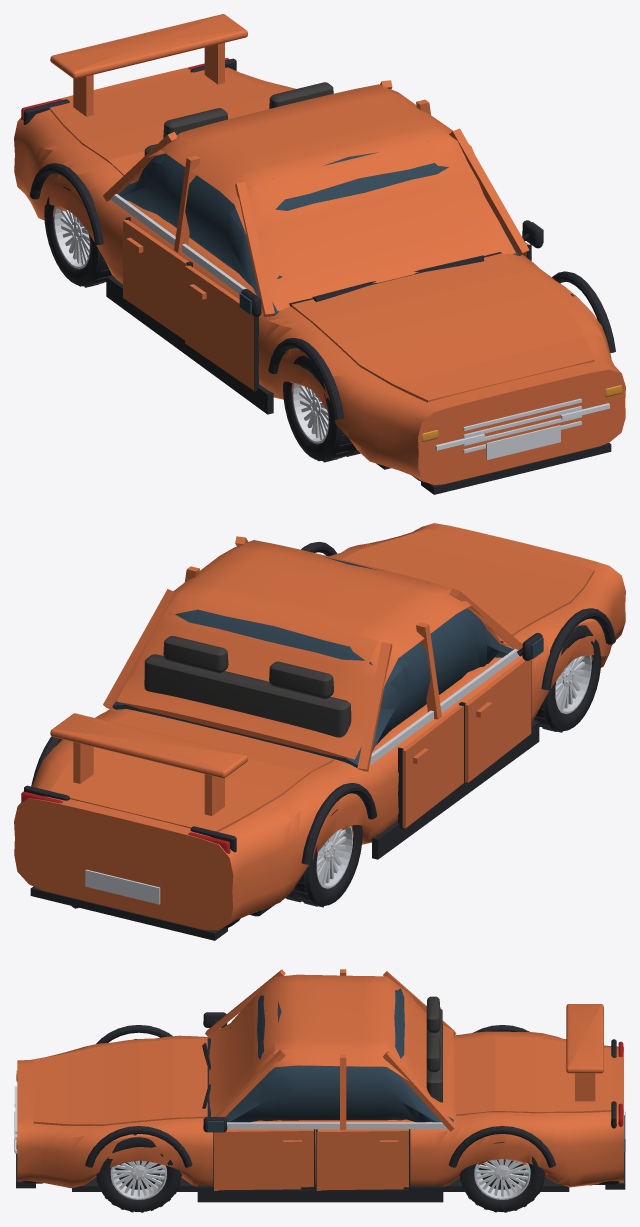
The model's file is SportsSaloonHD.fbx.
3 views of the same model, one above another, from view 1: azimuth 30°, elevation 25°; view 2: azimuth 150°, elevation 25°; view 3: azimuth 270°, elevation 25° (orthographic). The views are drawn at different scales.
Visible parts, largest first — view 1: body_sports-saloon_0, body_bonnet.001, trim_sports-saloon_1, body_boot.001, glass_sports-saloon_2, body_door-front-left.001, body_door-rear-left.001, rim_sports-saloon_6, trim_wheel-front-left_trim, interior_sports-saloon_3, trim_wheel-rear-left_trim, rim_wheel-rear-left_alloy (+1 smaller); view 2: body_sports-saloon_0, body_boot.001, body_bonnet.001, interior_sports-saloon_3, glass_sports-saloon_2, trim_sports-saloon_1, body_door-front-left.001, body_door-rear-left.001, rim_sports-saloon_6, trim_wheel-front-left_trim, trim_wheel-rear-left_trim, rim_wheel-rear-left_alloy (+1 smaller); view 3: body_sports-saloon_0, body_bonnet.001, glass_sports-saloon_2, body_boot.001, trim_sports-saloon_1, body_door-front-right.001, body_door-rear-right.001, trim_wheel-front-right_trim, trim_wheel-rear-right_trim, rim_sports-saloon_6, rim_wheel-rear-right_alloy, rim_wheel-front-right_alloy (+1 smaller).
Part boxes in pixels (box(x1,y1,x2,y2)): body_sports-saloon_0: box(14, 14, 625, 485); body_bonnet.001: box(291, 253, 594, 402); trim_sports-saloon_1: box(23, 58, 615, 494); body_boot.001: box(49, 70, 279, 175); glass_sports-saloon_2: box(118, 141, 543, 315); body_door-front-left.001: box(185, 265, 254, 390); body_door-rear-left.001: box(123, 220, 188, 340); rim_sports-saloon_6: box(110, 194, 581, 459); trim_wheel-front-left_trim: box(283, 355, 360, 462); interior_sports-saloon_3: box(144, 82, 333, 155); trim_wheel-rear-left_trim: box(44, 187, 111, 287); rim_wheel-rear-left_alloy: box(54, 206, 90, 268); body_sports-saloon_0: box(14, 523, 625, 930); body_boot.001: box(50, 710, 333, 831); body_bonnet.001: box(342, 529, 594, 642); interior_sports-saloon_3: box(144, 635, 351, 737); glass_sports-saloon_2: box(112, 545, 543, 767); trim_sports-saloon_1: box(23, 541, 615, 940); body_door-front-left.001: box(465, 658, 531, 782); body_door-rear-left.001: box(402, 705, 463, 828); rim_sports-saloon_6: box(85, 649, 519, 904); trim_wheel-front-left_trim: box(533, 625, 601, 732); trim_wheel-rear-left_trim: box(285, 809, 362, 907); rim_wheel-rear-left_alloy: box(316, 826, 352, 888); body_sports-saloon_0: box(17, 969, 623, 1188); body_bonnet.001: box(33, 1038, 207, 1125); glass_sports-saloon_2: box(207, 983, 453, 1131); body_boot.001: box(456, 1036, 612, 1115); trim_sports-saloon_1: box(16, 1012, 625, 1202); body_door-front-right.001: box(214, 1129, 313, 1190); body_door-rear-right.001: box(316, 1129, 408, 1190); trim_wheel-front-right_trim: box(96, 1134, 181, 1212); trim_wheel-rear-right_trim: box(459, 1142, 545, 1212); rim_sports-saloon_6: box(14, 1028, 625, 1151); rim_wheel-rear-right_alloy: box(474, 1159, 530, 1199); rim_wheel-front-right_alloy: box(110, 1160, 166, 1199).
Bounding box in the file's own units: 191 × 129 × 453.
